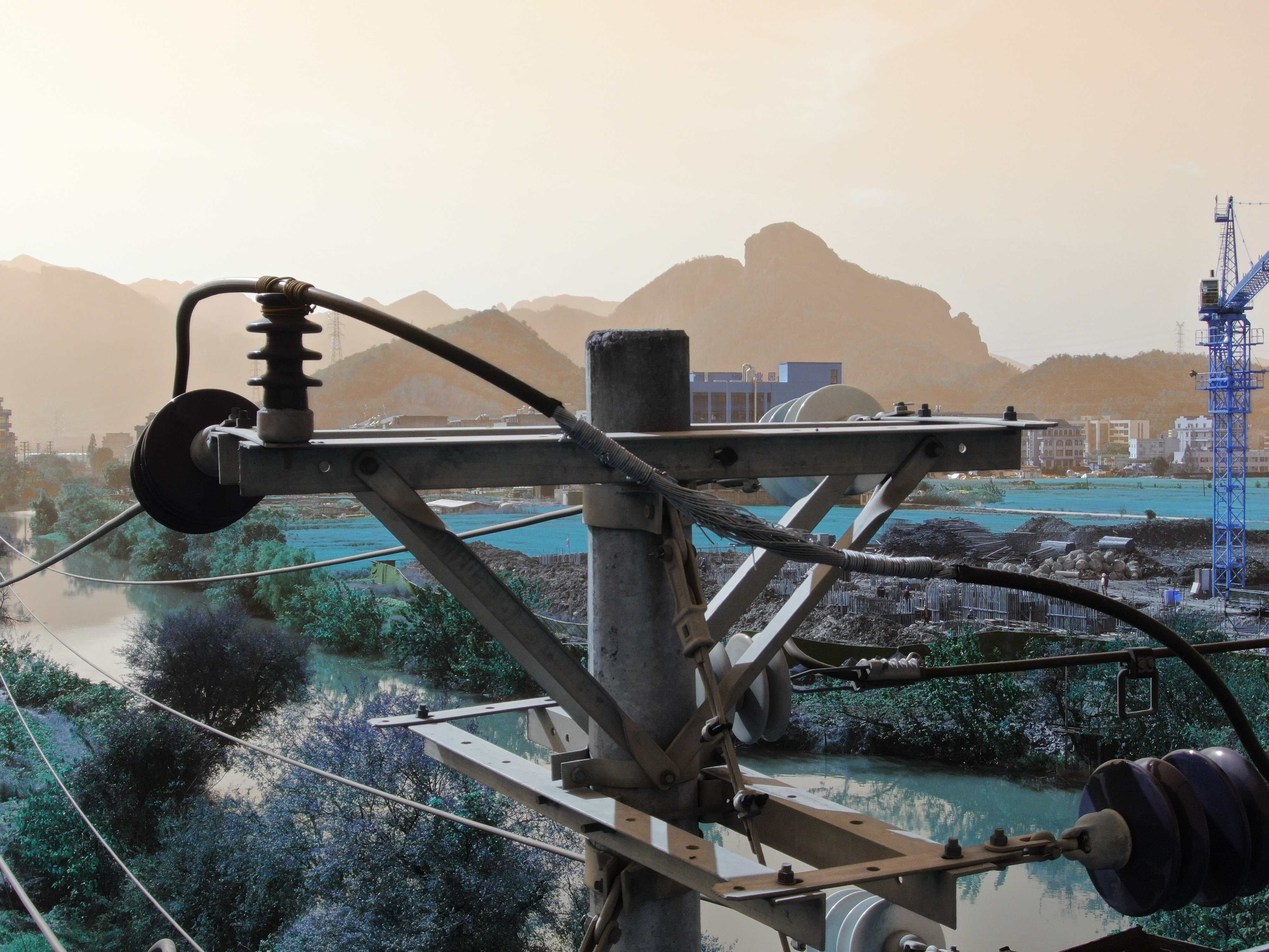severe_soiling_no_discharge_whole: (801, 883, 946, 950)
